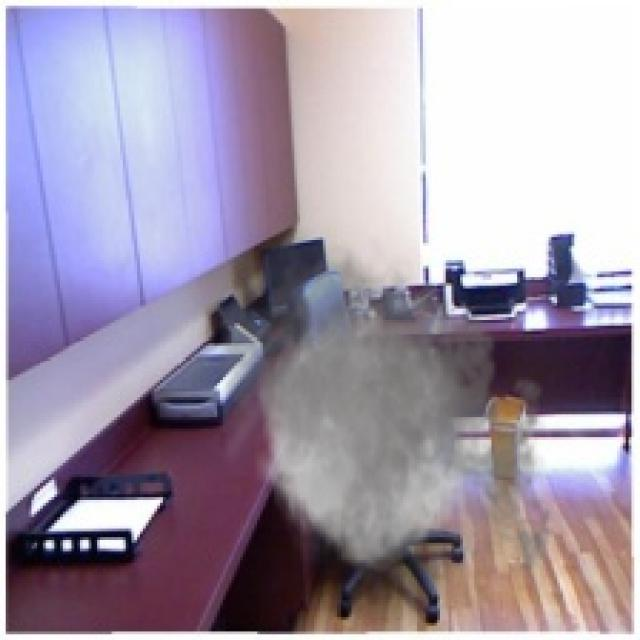smoke: (206, 229, 568, 637)
